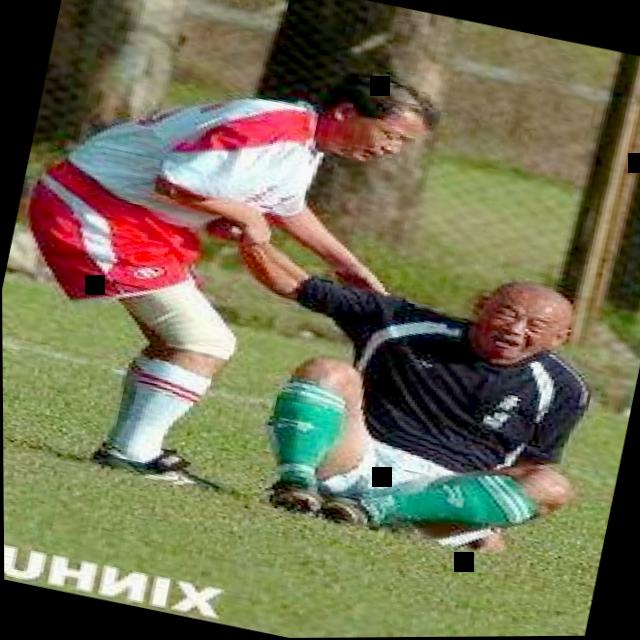Fall-Detected: (185, 195, 639, 589)
